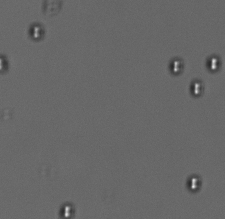Dead Cell: (41, 1, 62, 15)
Living Cell: (28, 22, 45, 41), (185, 173, 202, 191), (169, 57, 184, 75), (207, 54, 221, 73), (60, 202, 75, 217), (191, 80, 204, 97), (1, 54, 7, 74)
